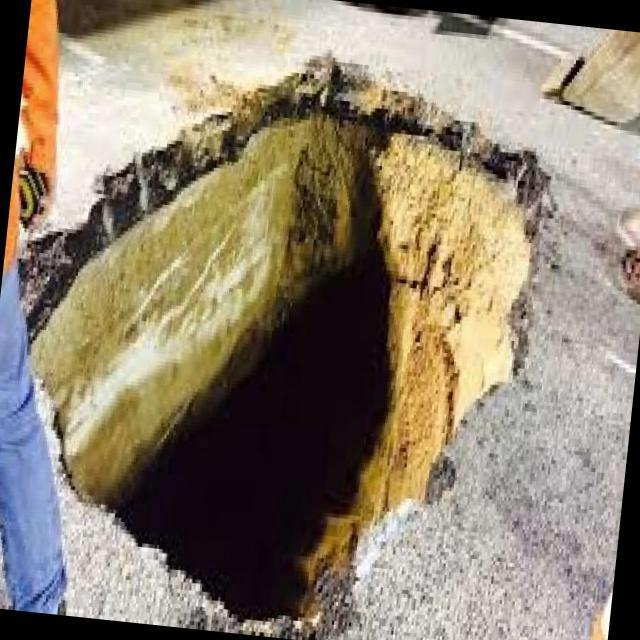Pothole: (31, 51, 548, 637)
